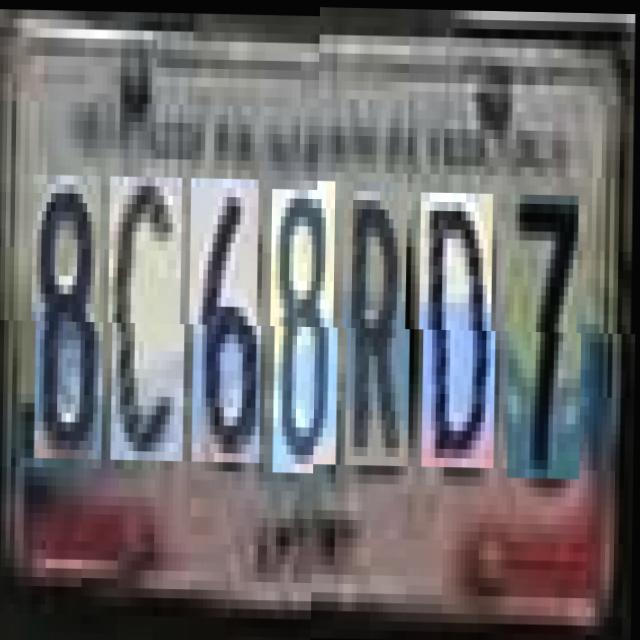6: (193, 177, 264, 462)
7: (508, 200, 584, 486)
8: (36, 174, 106, 460), (274, 188, 340, 472)
C: (112, 176, 187, 460)
D: (422, 199, 498, 475)
R: (346, 188, 412, 474)
